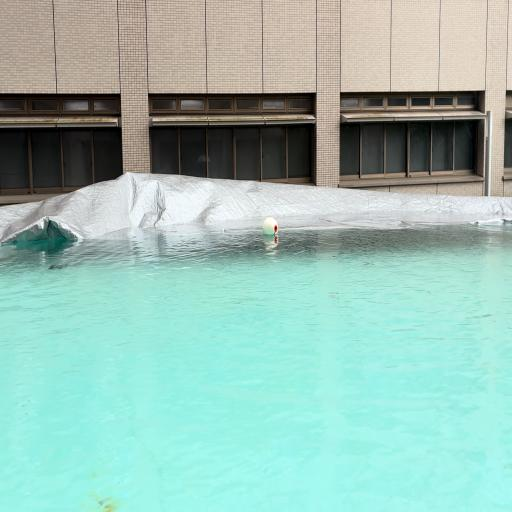white buoy: (263, 218, 278, 234)
